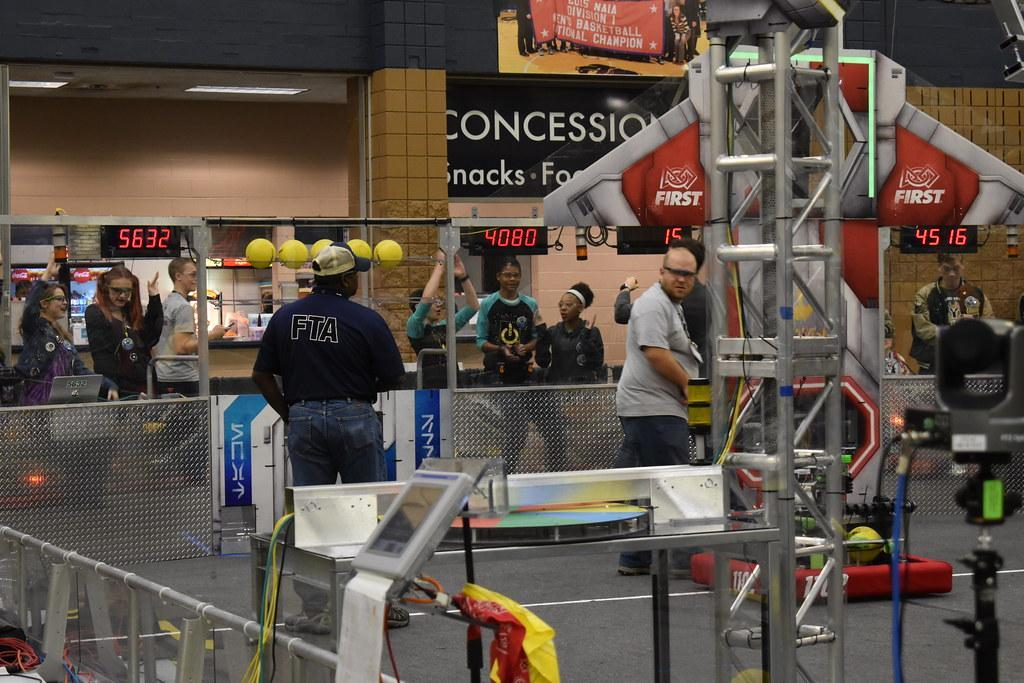robot: (674, 423, 962, 612)
